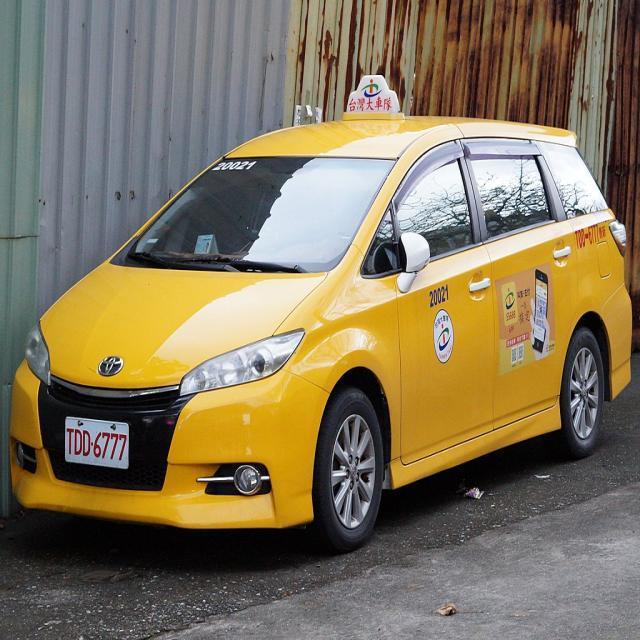taxi: (3, 38, 640, 580)
